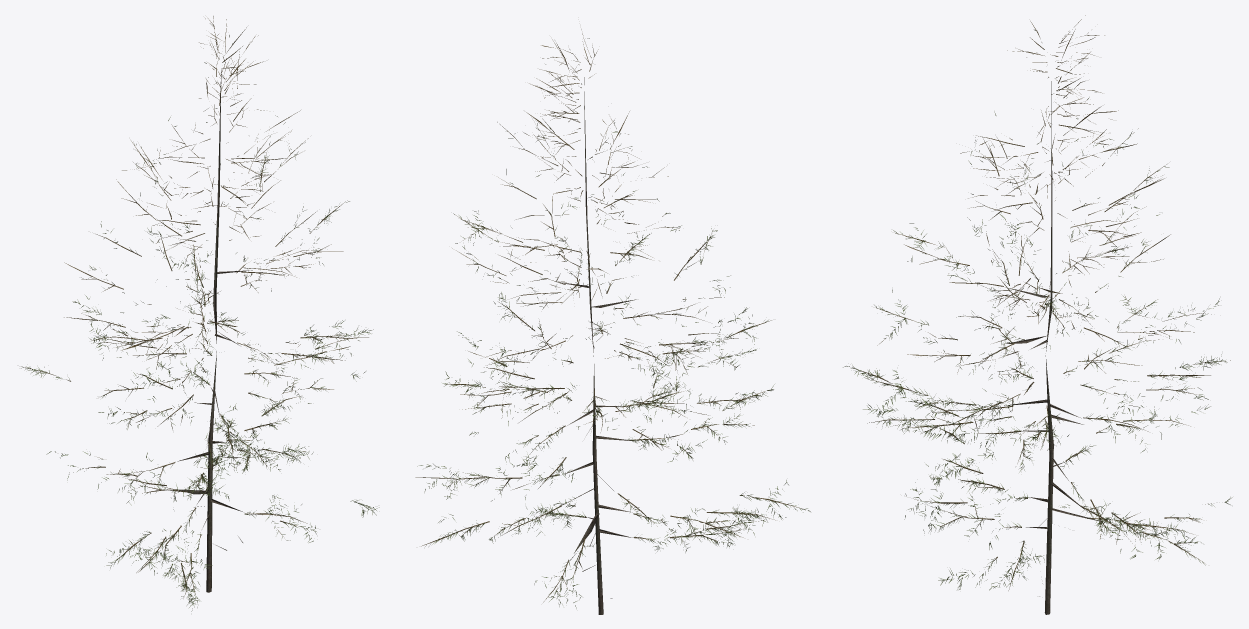
Rendered from fir_sapling_medium-near.glb.
3 views of the same model, side by side, from view 1: azimuth 30°, elevation 25°; view 2: azimuth 150°, elevation 25°; view 3: azimuth 270°, elevation 25° (orthographic). The views are drawn at different scales.
Parts seen in each view (by area): view 1: fir_sapling_medium_a_LOD0; view 2: fir_sapling_medium_a_LOD0; view 3: fir_sapling_medium_a_LOD0.
Part boxes in pixels (bbox=[...]): fir_sapling_medium_a_LOD0: bbox=[21, 16, 379, 611]; fir_sapling_medium_a_LOD0: bbox=[415, 29, 810, 614]; fir_sapling_medium_a_LOD0: bbox=[843, 15, 1232, 614].
Bounding box in the file's own units: 4.78 × 8.6 × 5.
Materials: 3 (3 with a texture image).
